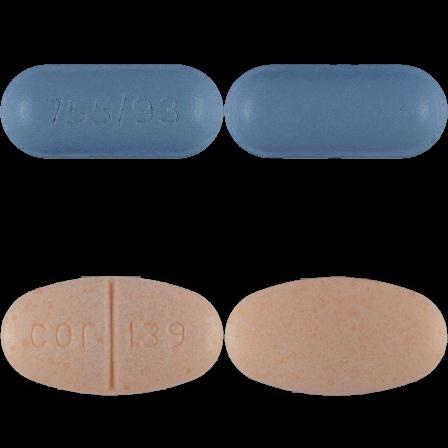68151-0848: (0, 0, 224, 224)
